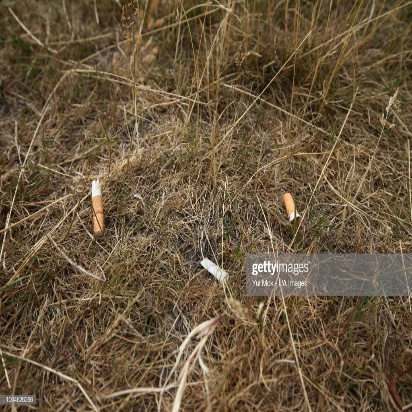cigarette: (84, 172, 112, 238), (196, 252, 233, 286), (278, 190, 304, 226)
